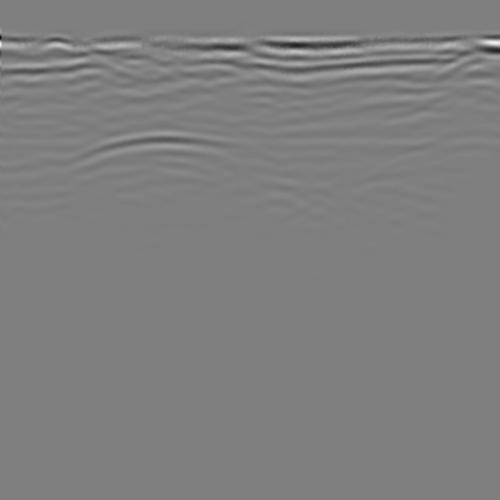hyperbola: (32, 105, 305, 214)
